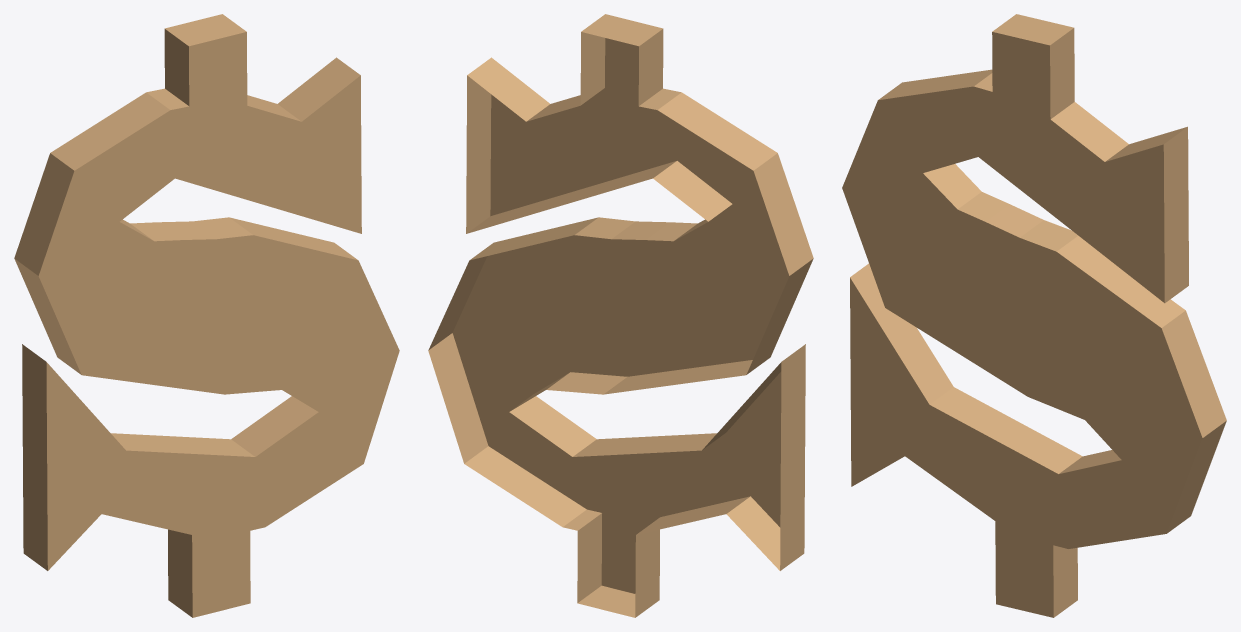
The model's file is Sign_1.fbx.
The picture shows the model from 3 angles, left to right: view 1: azimuth 30°, elevation 25°; view 2: azimuth 150°, elevation 25°; view 3: azimuth 330°, elevation 25°; orthographic projection.
Parts seen in each view (by area): view 1: Sign_1; view 2: Sign_1; view 3: Sign_1.
Boxes of the visible parts, bbox=[...] form: Sign_1: bbox=[14, 14, 399, 617]; Sign_1: bbox=[428, 14, 813, 617]; Sign_1: bbox=[842, 14, 1226, 617].
Bounding box in the file's own units: 79.03 × 9.22 × 120.
